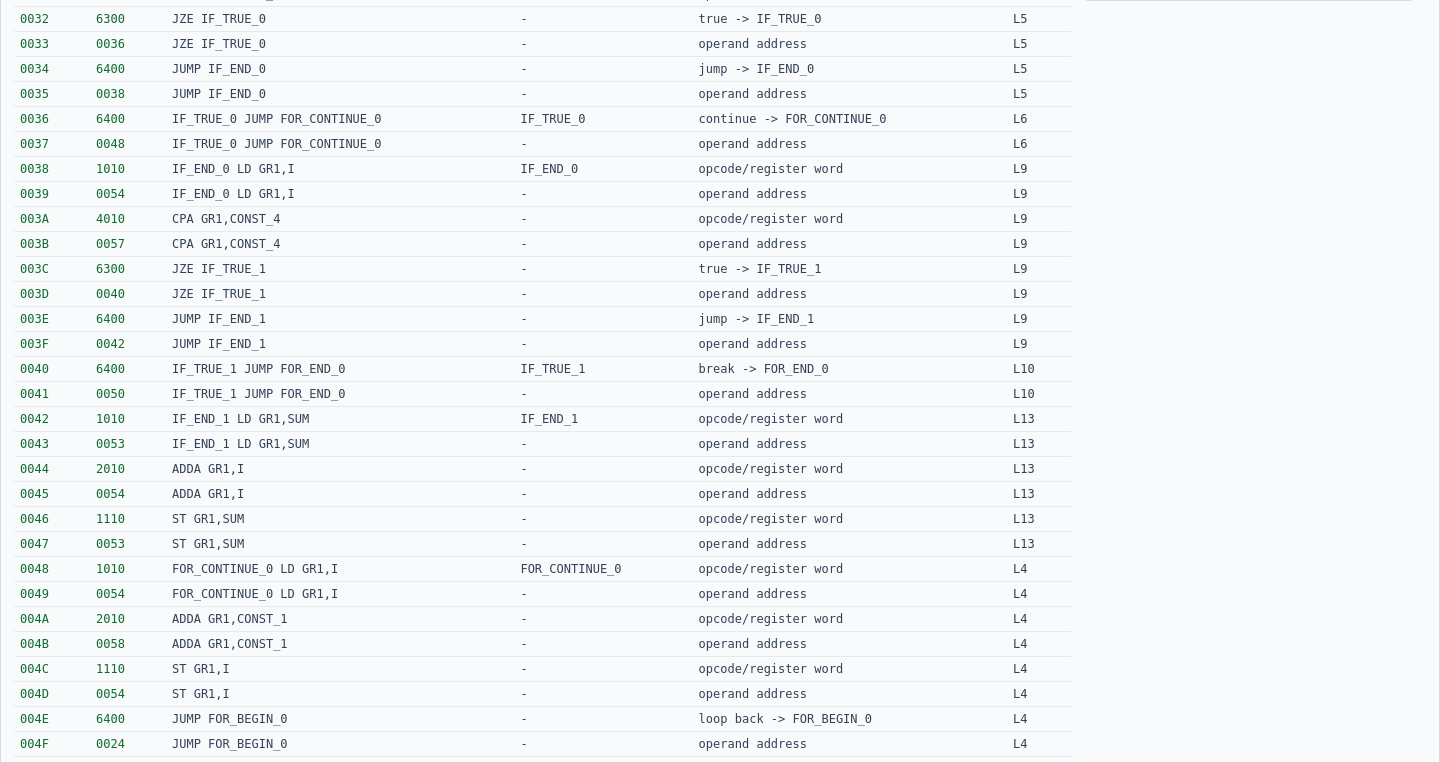
Test: machine code rows › machine_code_jump_explanation_shows_target
(page scrolled)
Click the button with aria-label "Select machine word 6400 at 0040 from IF_TRUE_1 JUMP FOR_END" at (544, 370), box [13, 358, 1074, 382]
(page scrolled)
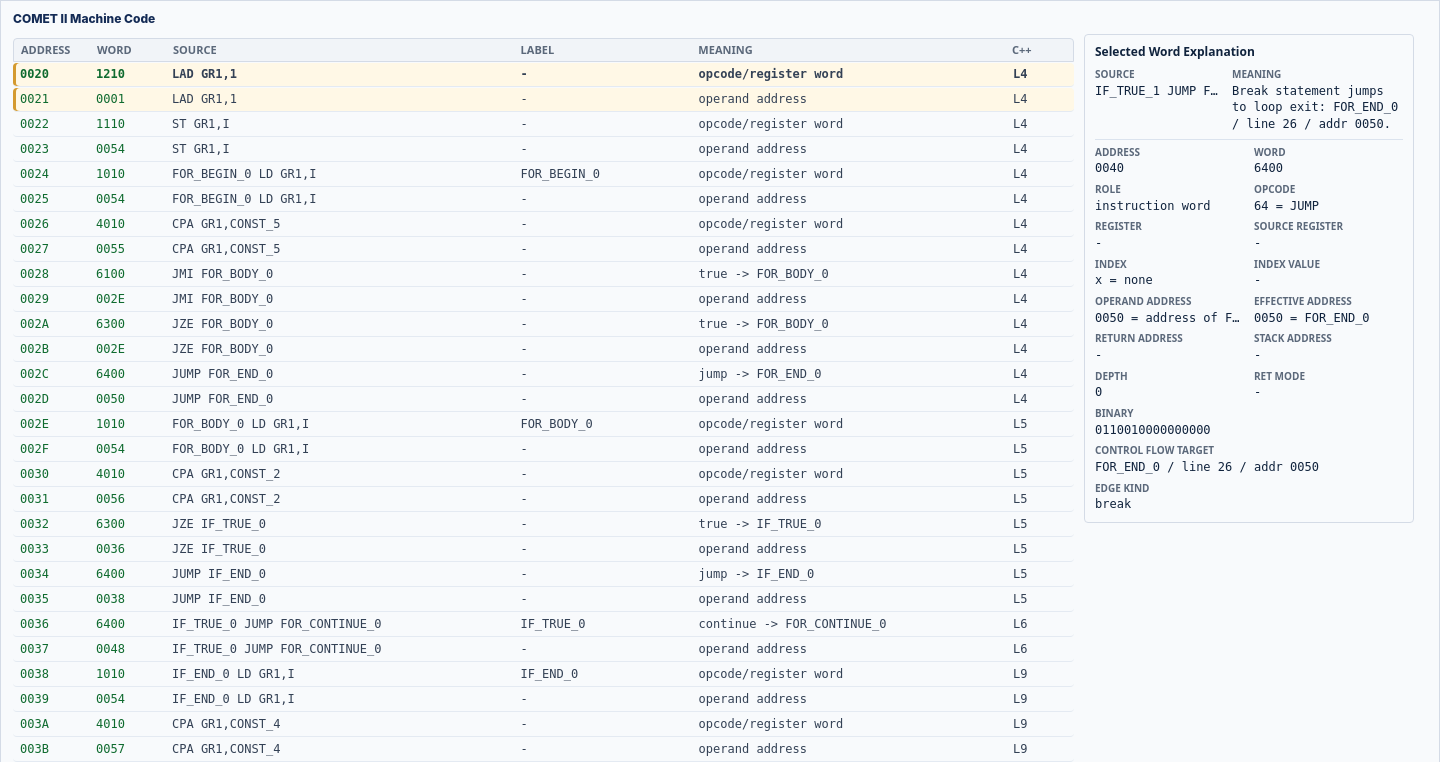
Check: the element with test id "machine-code-explanation" shows "Control Flow Target", box [1095, 443, 1214, 457]
Check: the element with test id "machine-code-explanation" shows "FOR_END_0", box [1095, 84, 1268, 98]
Check: the element with test id "machine-code-explanation" shows "Break", box [1095, 497, 1131, 511]
